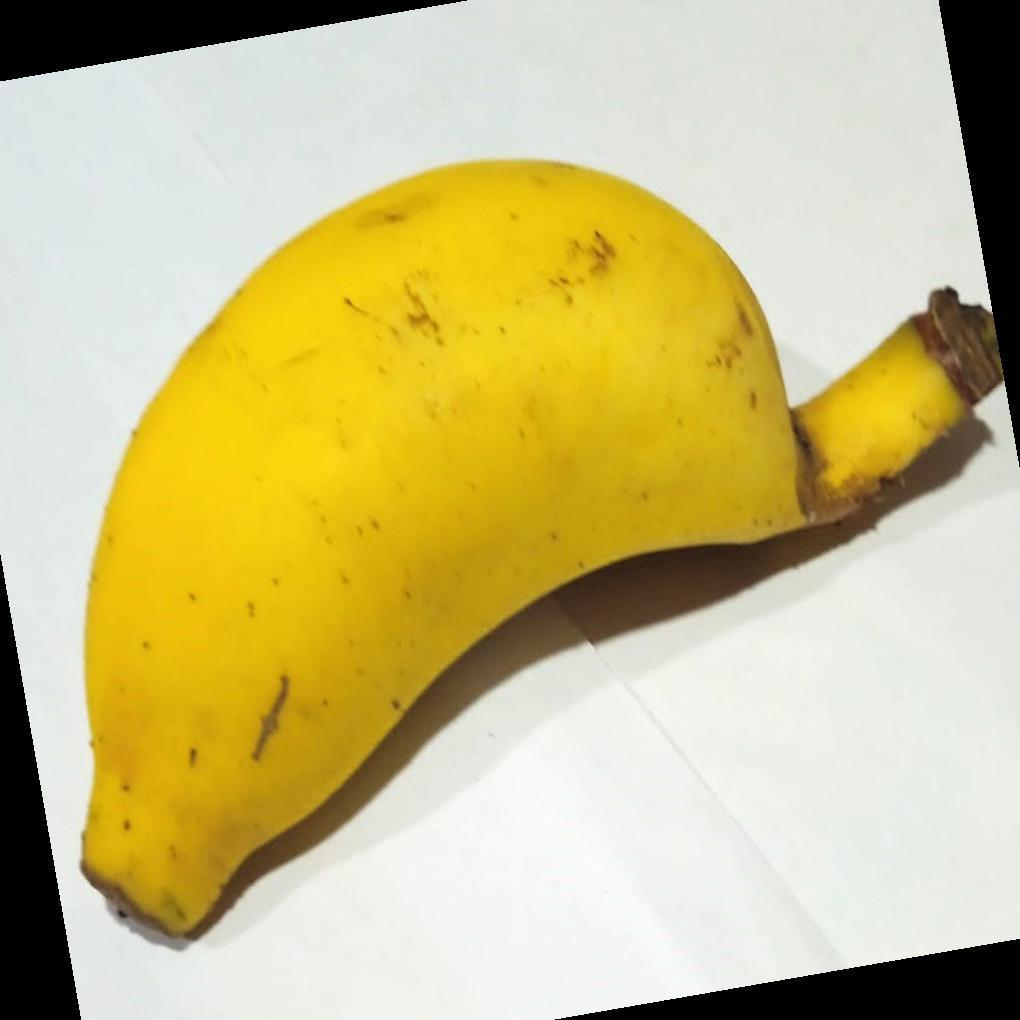Banana Ripe: (83, 138, 1020, 988)
